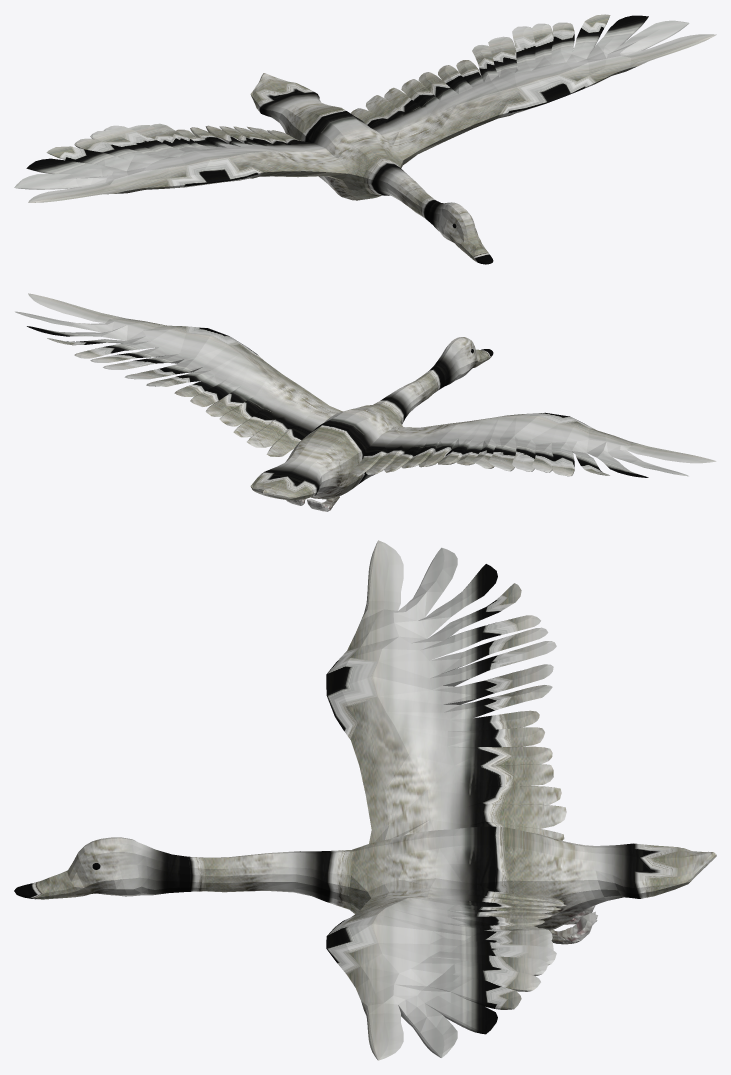
File: goose.obj
3 views of the same model, one above another, from view 1: azimuth 30°, elevation 25°; view 2: azimuth 150°, elevation 25°; view 3: azimuth 270°, elevation 25° (orthographic). The views are drawn at different scales.
Bounding box in the file's own units: 1.19 × 0.149 × 0.6781.
Materials: 2 (1 with a texture image).
